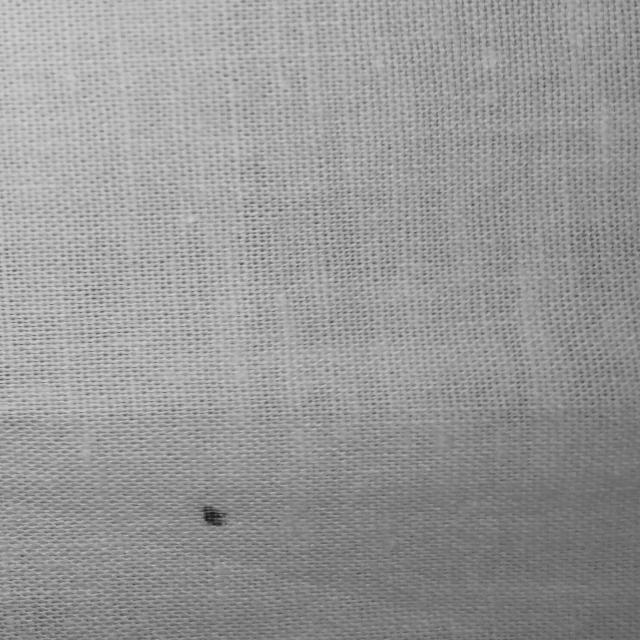Stain: (202, 507, 226, 527)
